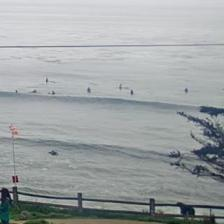surfer: (48, 150, 58, 155), (184, 88, 189, 94), (50, 90, 55, 95), (87, 87, 91, 93), (31, 89, 37, 92), (119, 83, 122, 89), (130, 90, 134, 94), (0, 76, 2, 82), (46, 77, 48, 82), (16, 90, 18, 92)
